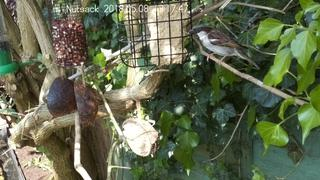sparrow: (188, 24, 261, 69)
